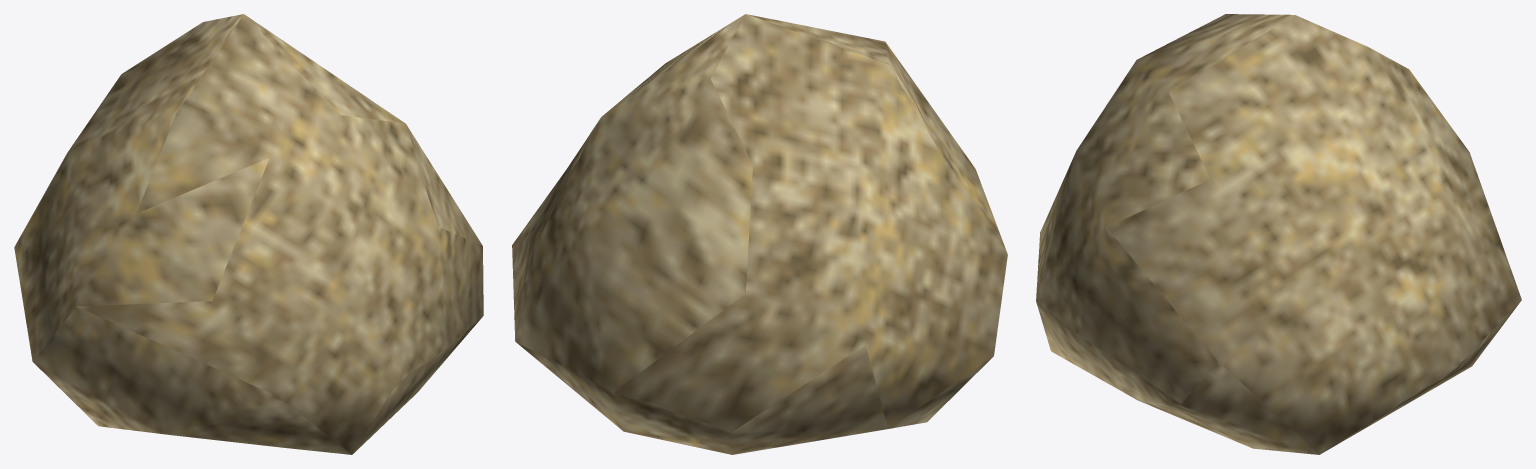
The model's file is lboulderdes_0.dae.
3 views of the same model, side by side, from view 1: azimuth 30°, elevation 25°; view 2: azimuth 150°, elevation 25°; view 3: azimuth 270°, elevation 25° (orthographic). The views are drawn at different scales.
Visible parts, largest first — view 1: lboulderdes_0; view 2: lboulderdes_0; view 3: lboulderdes_0.
Part boxes in pixels (box(x1,y1,x2,y2)): lboulderdes_0: box(14, 14, 483, 454); lboulderdes_0: box(512, 14, 1007, 454); lboulderdes_0: box(1036, 14, 1521, 454).
Bounding box in the file's own units: 2.39 × 2.35 × 2.03.
1 material, 1 textured.
